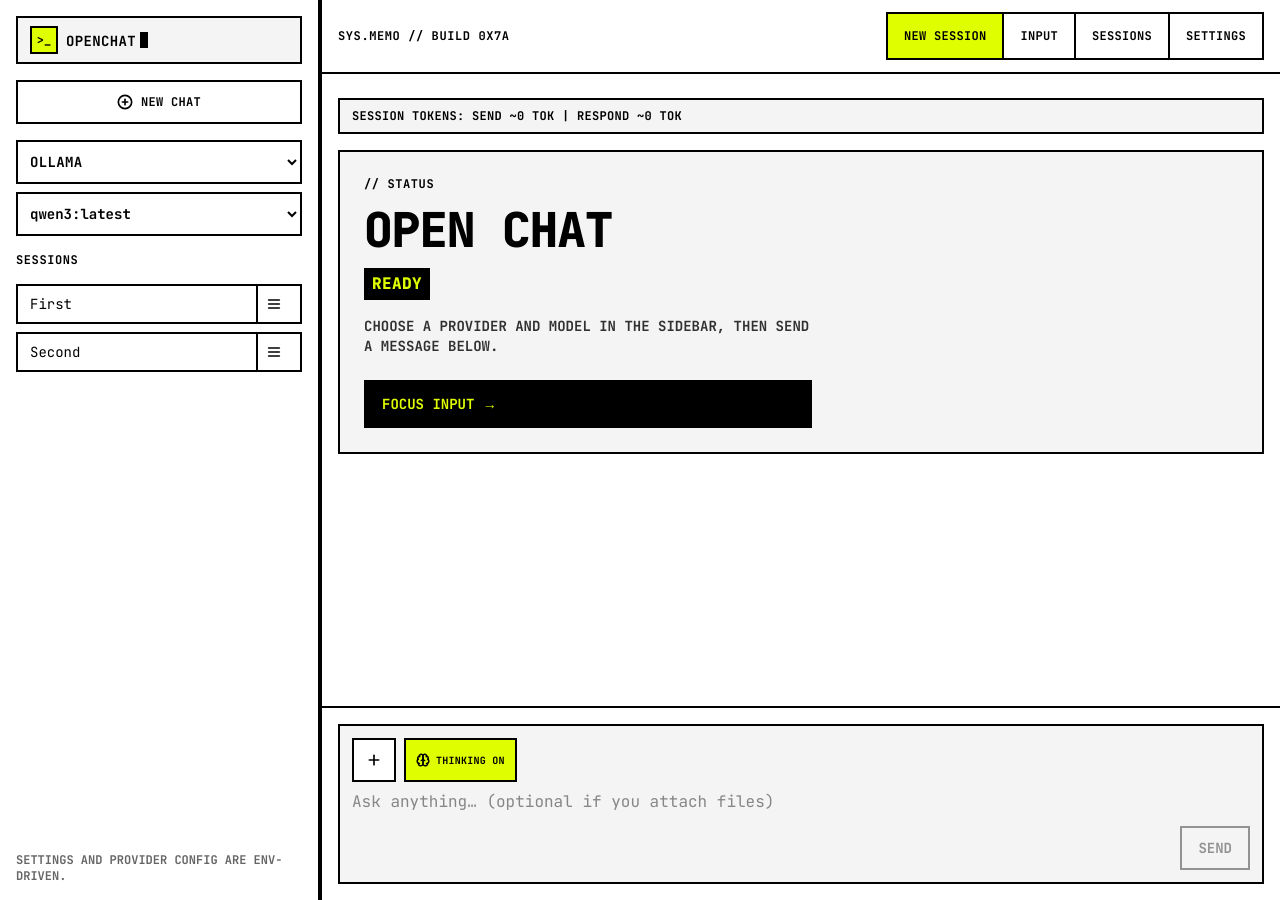
it: Page integration › streams response into last assistant message
Type "Hello" into the text box with placeholder "Ask anything… (optional if you attach files)".
click(760, 830); type("Hello")  # box [352,790,1168,870]
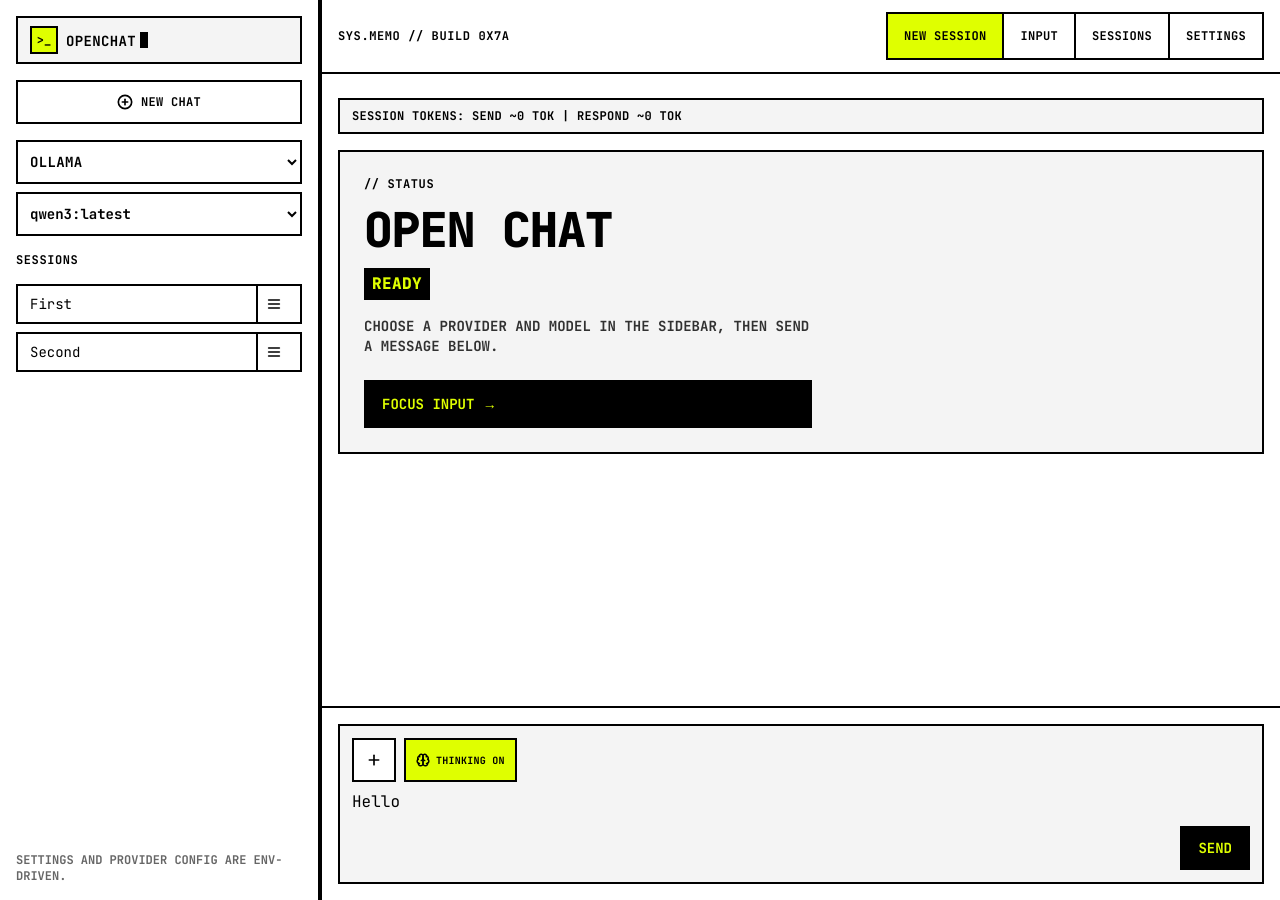
Click the button "Send".
click(1215, 848)  # box [1180,826,1250,870]
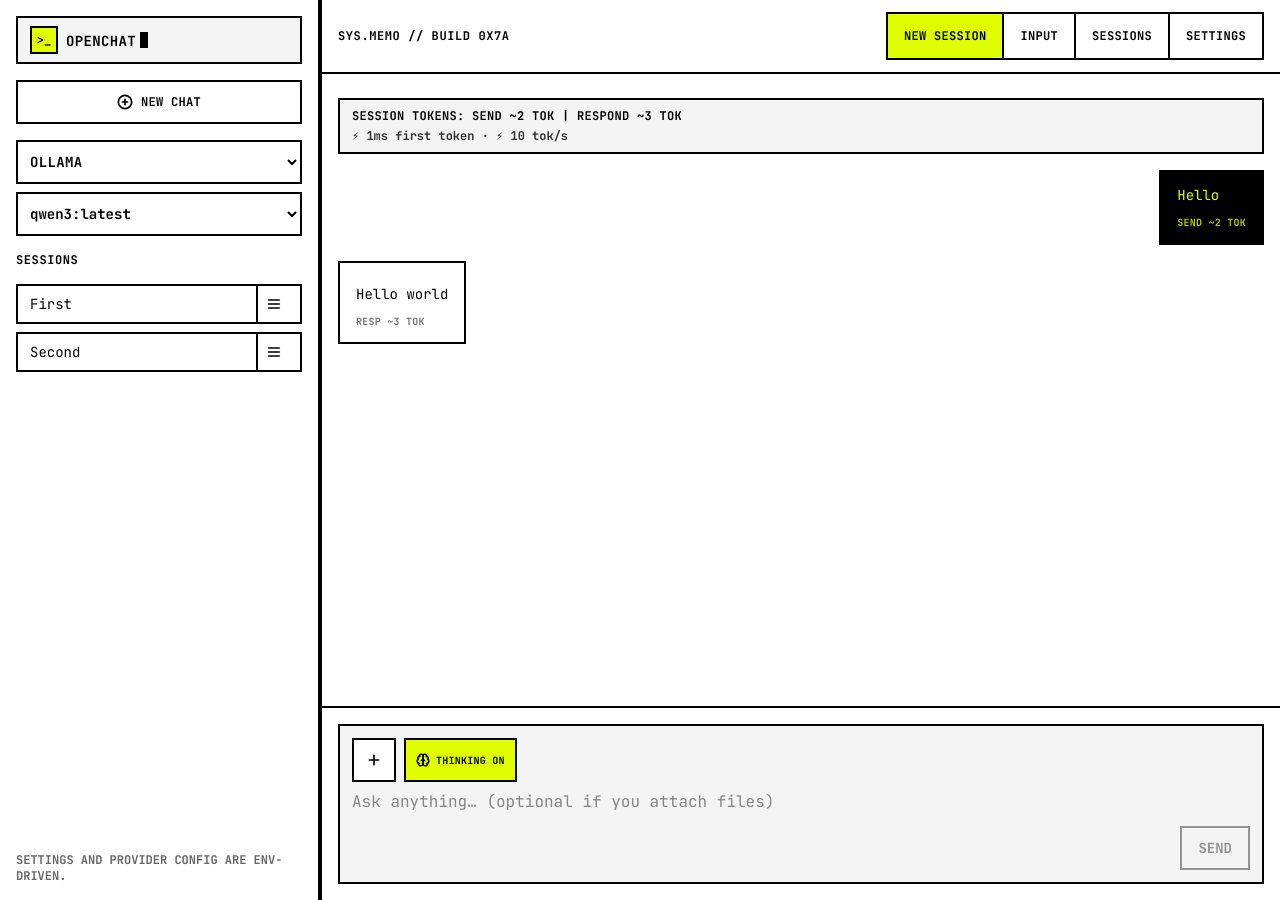
Result: the text "Hello world" is shown at [356,283,448,306]
